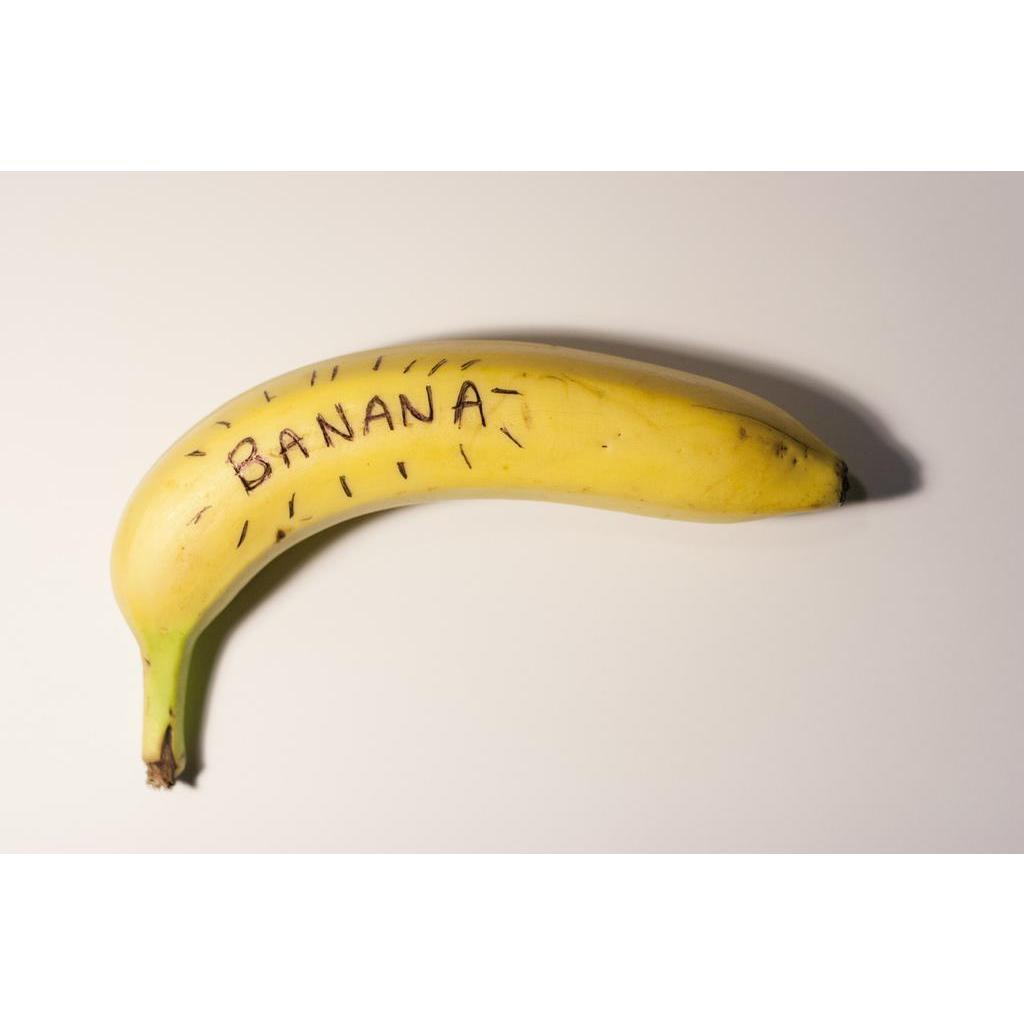banana: (110, 340, 855, 787)
